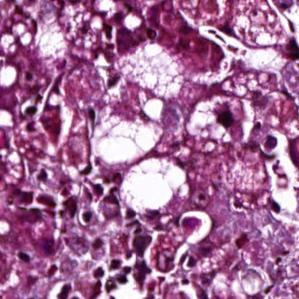ballooning: (88, 79, 167, 170), (115, 155, 193, 218)
